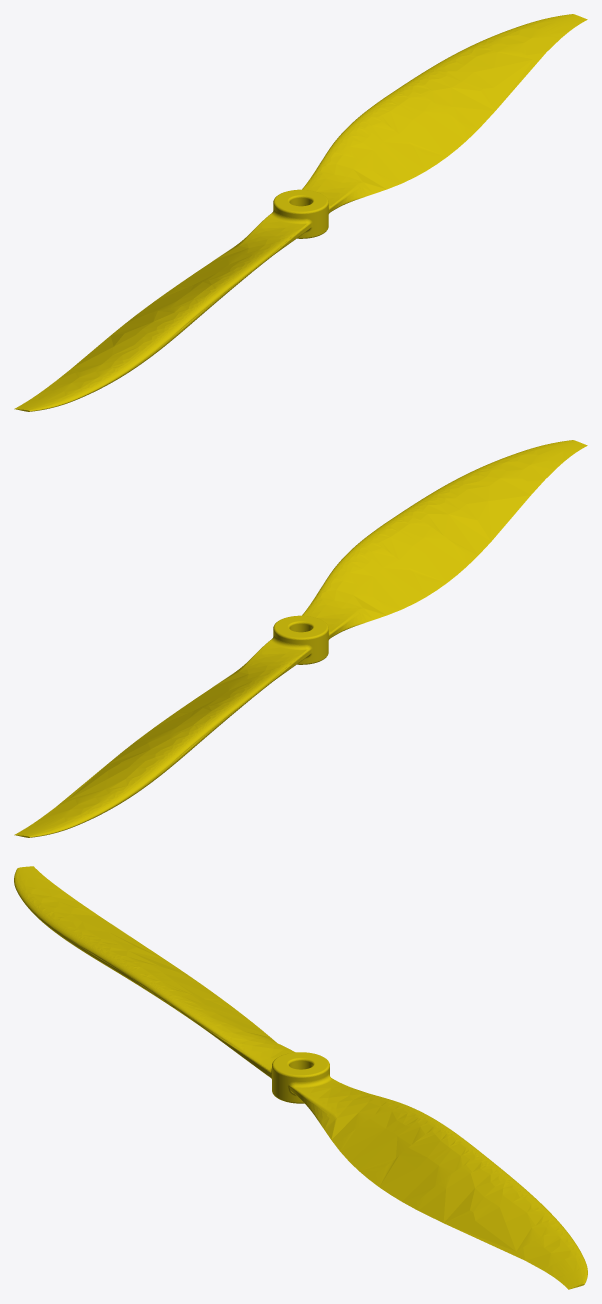
Rendered from prop_bl.dae.
3 views of the same model, one above another, from view 1: azimuth 30°, elevation 25°; view 2: azimuth 210°, elevation 25°; view 3: azimuth 270°, elevation 25° (orthographic). The views are drawn at different scales.
Visible parts, largest first — view 1: tmp_export_Part__Feature.007; view 2: tmp_export_Part__Feature.007; view 3: tmp_export_Part__Feature.007.
Part boxes in pixels (x1,y1,x2,y2): tmp_export_Part__Feature.007: (14,14,587,411); tmp_export_Part__Feature.007: (14,440,587,837); tmp_export_Part__Feature.007: (14,866,587,1289).
Size of the model in its own units: 0.2243 by 0.1285 by 0.00876.
